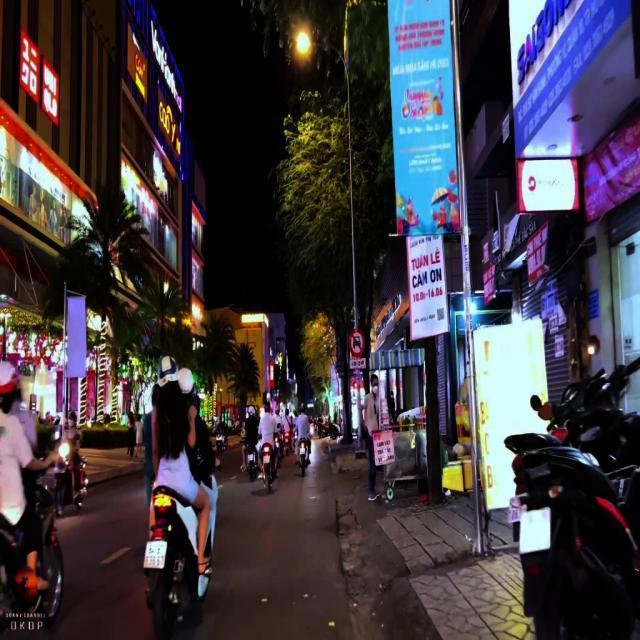103a-cam-oto: (348, 329, 364, 356)
